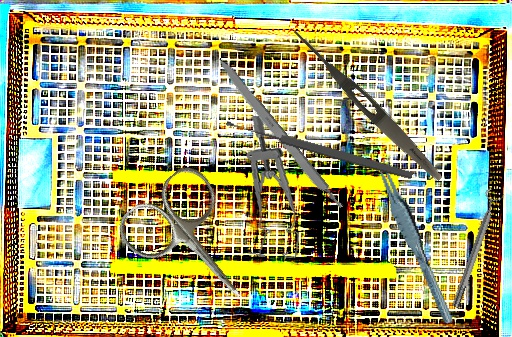Dressing Forceps: (286, 24, 447, 186)
Fixation Ring: (445, 187, 506, 311)
Iris Scissors: (110, 159, 279, 331)
Scalpel Handle: (213, 55, 345, 214)
Speculum: (235, 115, 313, 261)
Surgical Spoon: (225, 116, 414, 182)
Tissue Forceps: (375, 150, 455, 331)
